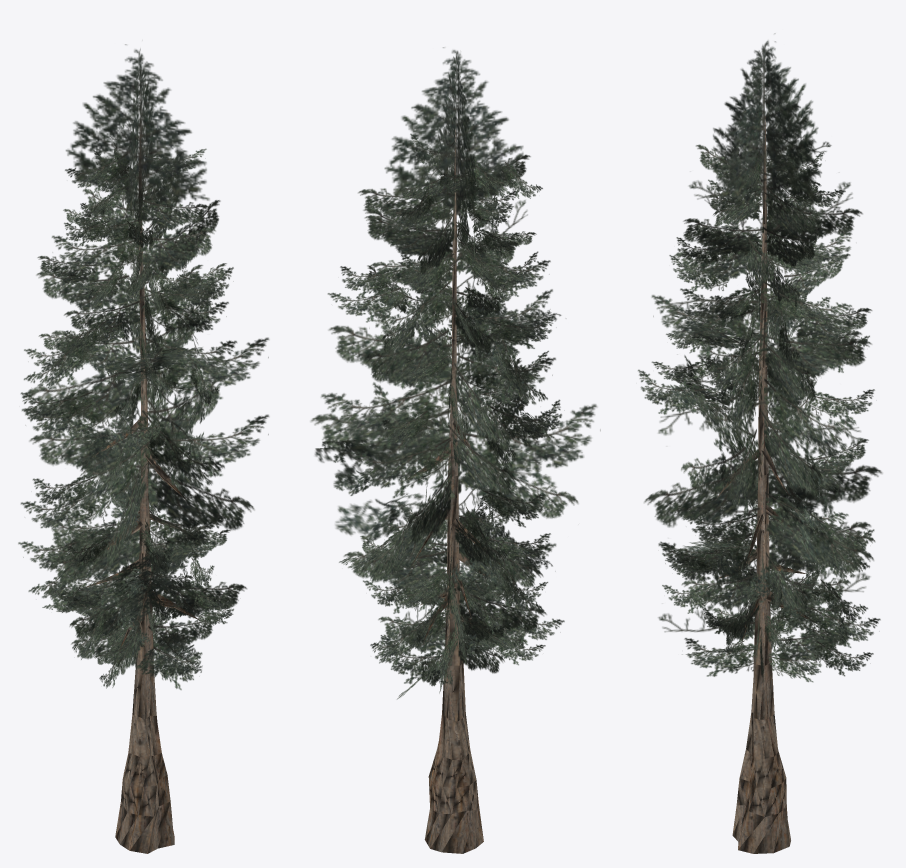
The model's file is low-poly-forest-tree-pack-5ff5a5.glb.
3 renders of one model, left to right at view 1: azimuth 30°, elevation 25°; view 2: azimuth 150°, elevation 25°; view 3: azimuth 270°, elevation 25°, orthographic.
Visible parts, largest first — view 1: PropMesh; view 2: PropMesh; view 3: PropMesh.
Part boxes in pixels (left/top/right/bottom): PropMesh: left=18, top=44, right=269, bottom=853; PropMesh: left=310, top=47, right=600, bottom=853; PropMesh: left=638, top=33, right=882, bottom=853.
Bounding box in the file's own units: 0.676 × 2.2 × 0.6482.
2 materials, 2 textured.
